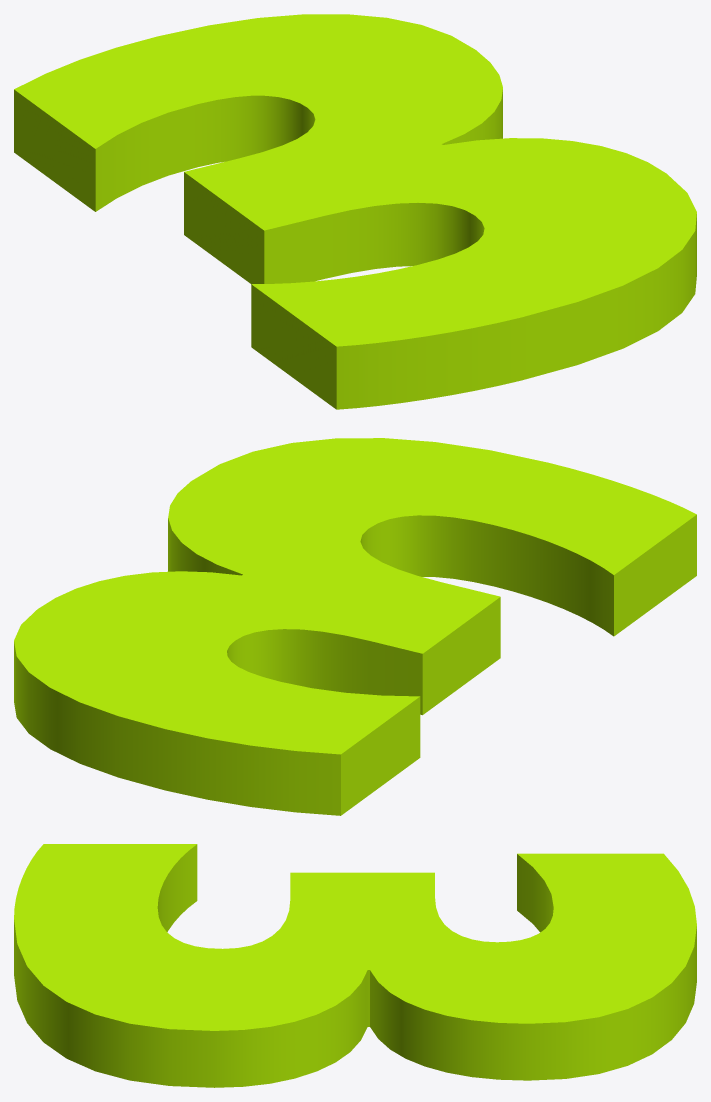
Rendered from NumberModel_3.gltf.
The picture shows the model from 3 angles, top to bottom: view 1: azimuth 30°, elevation 25°; view 2: azimuth 150°, elevation 25°; view 3: azimuth 270°, elevation 25°; orthographic projection. The views are drawn at different scales.
Visible parts, largest first — view 1: NumberModel_3; view 2: NumberModel_3; view 3: NumberModel_3.
Part boxes in pixels (<box>): NumberModel_3: <box>14,14,696,409</box>; NumberModel_3: <box>14,438,696,815</box>; NumberModel_3: <box>14,844,696,1087</box>.
Bounding box in the file's own units: 0.5386 × 0.0764 × 0.8321.
